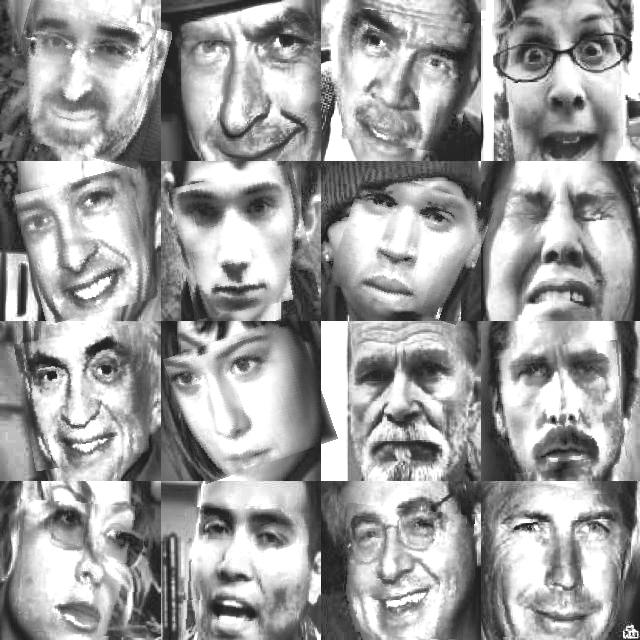angry: (13, 501, 153, 636), (493, 19, 629, 153), (184, 508, 308, 636)
happy: (3, 3, 165, 161), (493, 494, 633, 636), (330, 505, 471, 640), (22, 173, 152, 319), (19, 328, 145, 466), (187, 23, 313, 154)
neutral: (172, 323, 330, 475), (335, 175, 487, 316), (175, 169, 313, 315), (346, 12, 472, 152), (496, 342, 626, 472), (356, 339, 468, 465)
sad: (504, 181, 630, 315)
